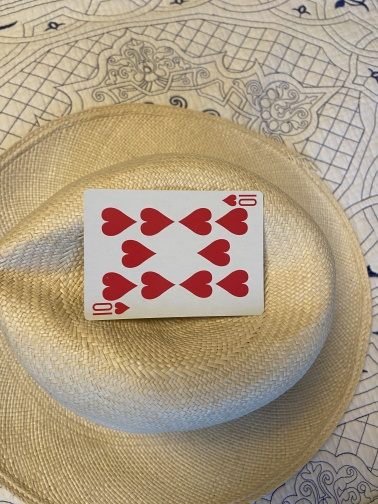ten: (82, 188, 266, 323)
